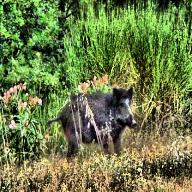boar: (44, 82, 140, 160)
